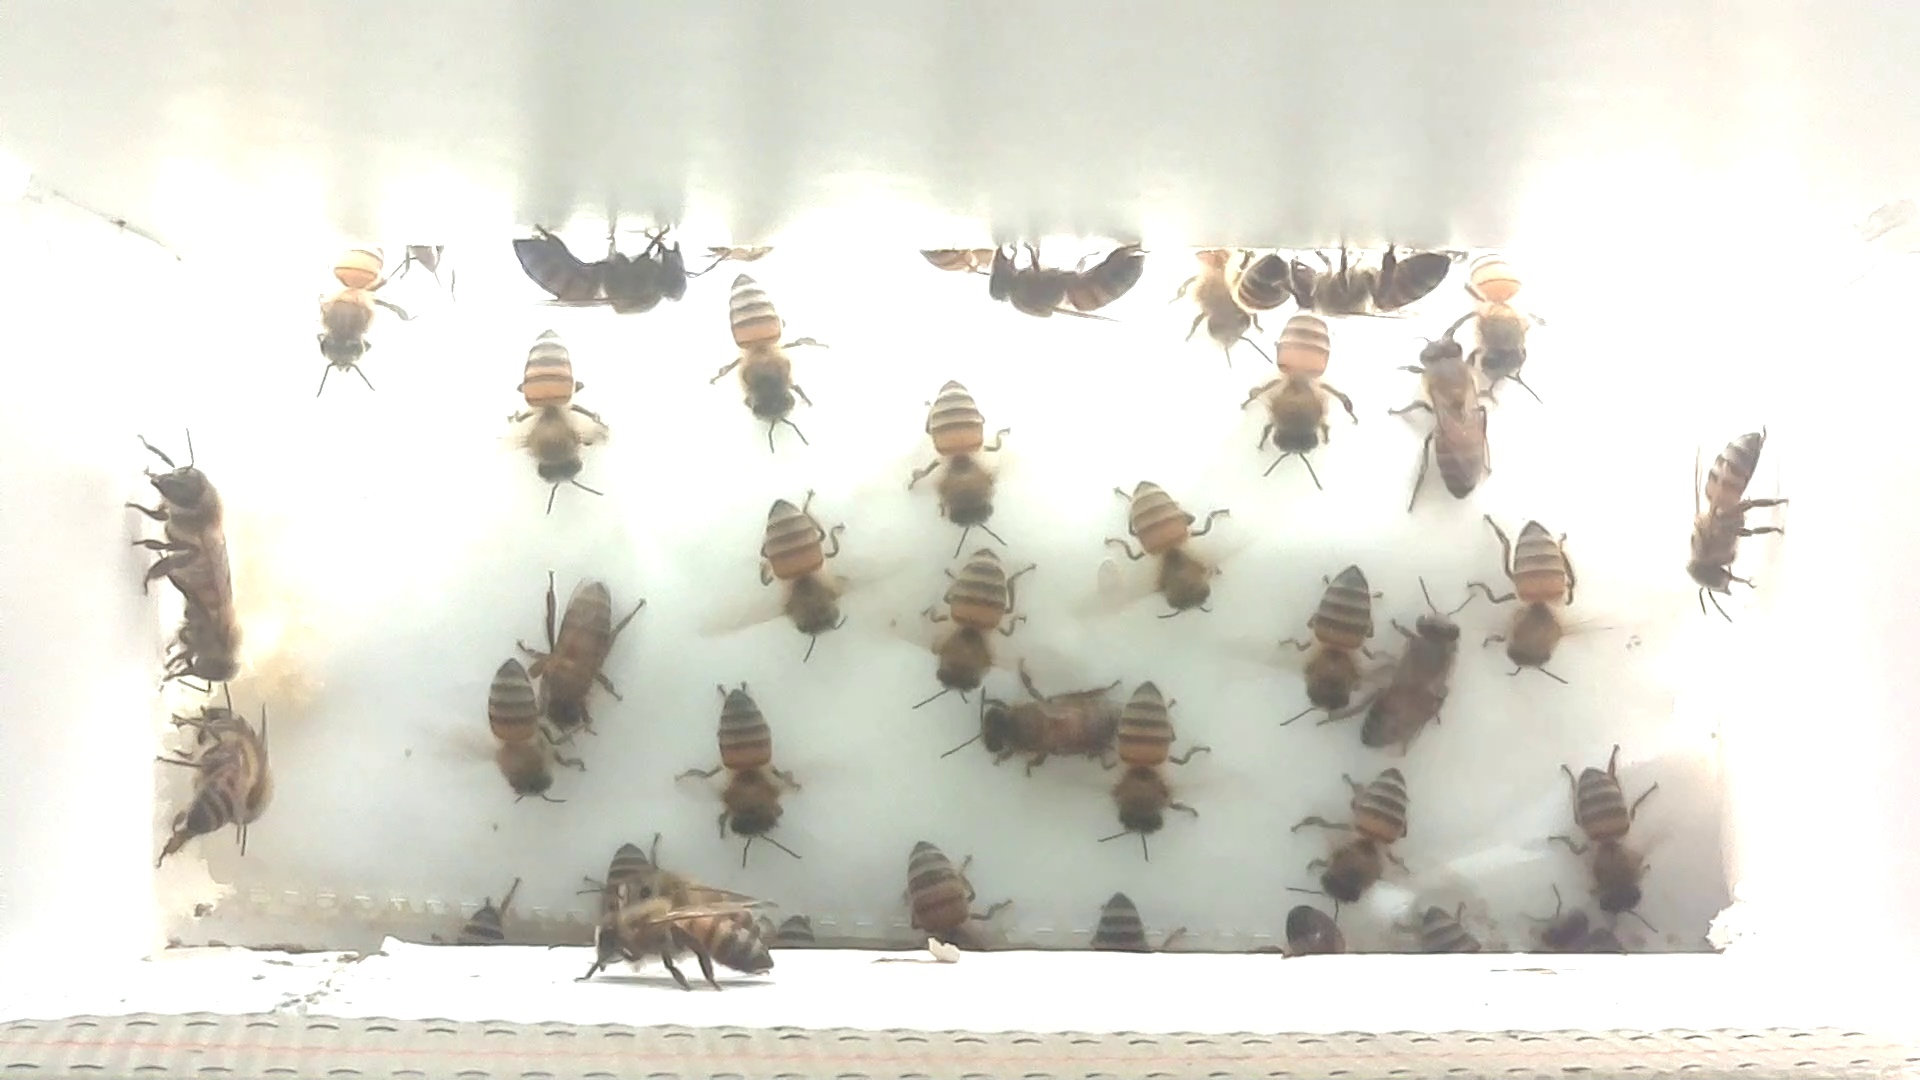bee: (876, 365, 1048, 564), (669, 666, 823, 874), (491, 314, 644, 521), (686, 261, 845, 455), (1663, 392, 1796, 620), (495, 203, 716, 334), (727, 480, 887, 655), (1543, 733, 1680, 936), (894, 522, 1035, 719), (549, 889, 798, 1000), (1091, 665, 1222, 873), (1379, 306, 1509, 518), (938, 650, 1139, 783), (516, 558, 663, 735), (1284, 744, 1429, 923), (1241, 295, 1366, 498), (1356, 564, 1485, 761), (443, 651, 588, 824), (1095, 469, 1250, 630), (1473, 501, 1604, 691), (160, 699, 303, 869), (121, 425, 247, 615), (1265, 545, 1385, 735), (286, 223, 411, 404), (878, 825, 1029, 973), (963, 223, 1159, 331), (1456, 229, 1553, 405), (1275, 233, 1451, 319), (158, 574, 266, 705), (1168, 233, 1270, 368), (1075, 880, 1197, 978), (435, 874, 534, 957), (1230, 233, 1304, 328), (1404, 893, 1501, 964), (1269, 894, 1360, 968)
